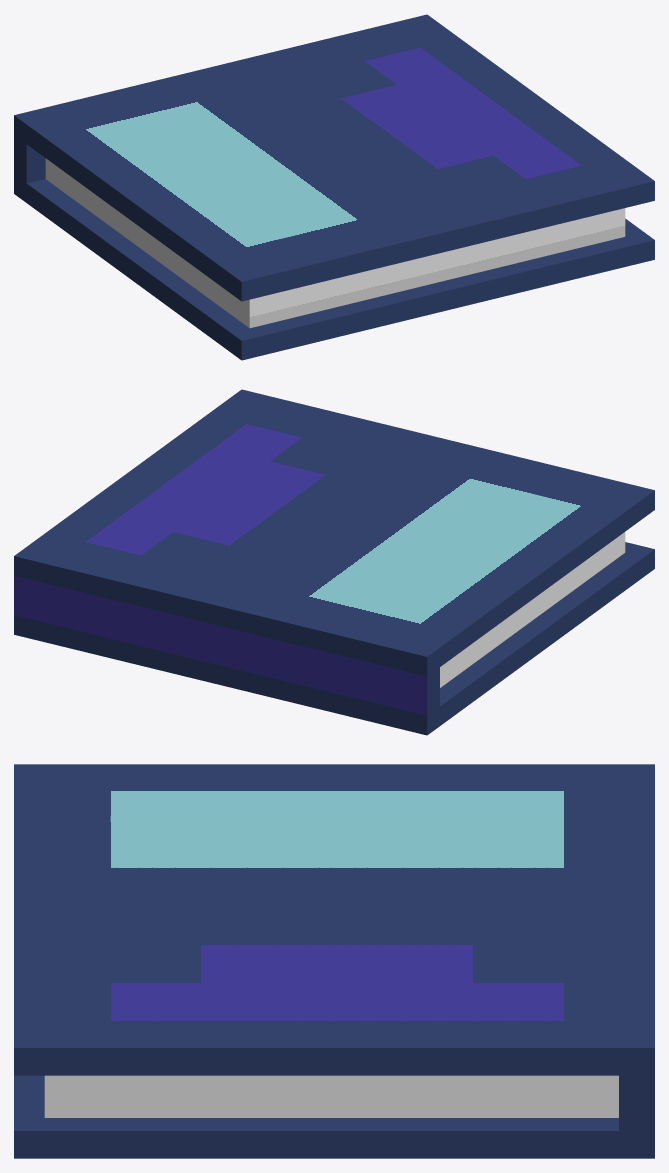
The model's file is book_1.fbx.
The picture shows the model from 3 angles, top to bottom: view 1: azimuth 30°, elevation 25°; view 2: azimuth 150°, elevation 25°; view 3: azimuth 270°, elevation 25°; orthographic projection. The views are drawn at different scales.
Visible parts, largest first — view 1: cuboid; view 2: cuboid; view 3: cuboid.
Boxes of the visible parts, x1=… form: cuboid: x1=14, y1=14, x2=654, y2=360; cuboid: x1=14, y1=389, x2=654, y2=735; cuboid: x1=14, y1=764, x2=654, y2=1158.
Bounding box in the file's own units: 13.75 × 2.5 × 13.12.
Materials: 1 (1 with a texture image).
